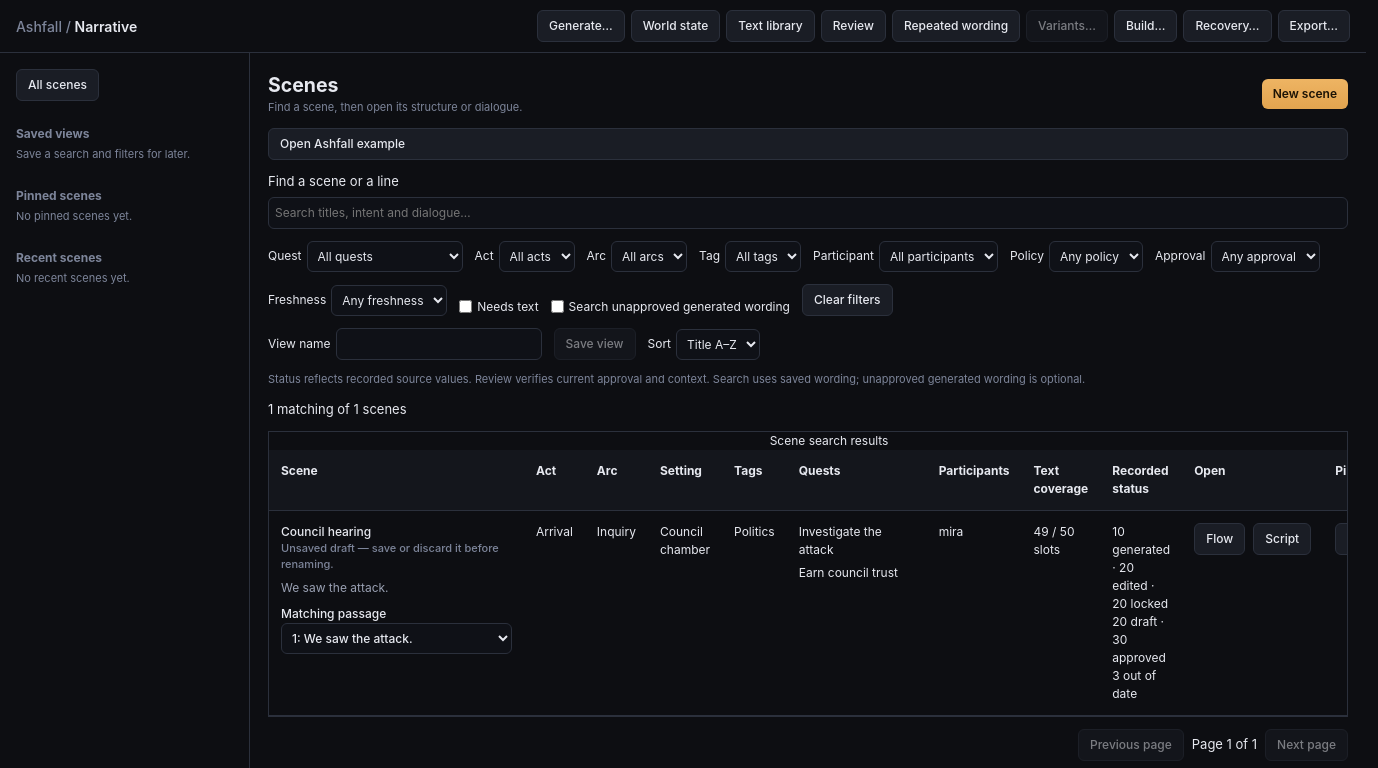
it: Narrative discovery and editor handoff › checks the current shared draft in the footer instead of displaying saved-scene results
Click the button with aria-label "Open Council hearing in Flow": (1220, 539) [1194, 523, 1245, 555]
(page scrolled)
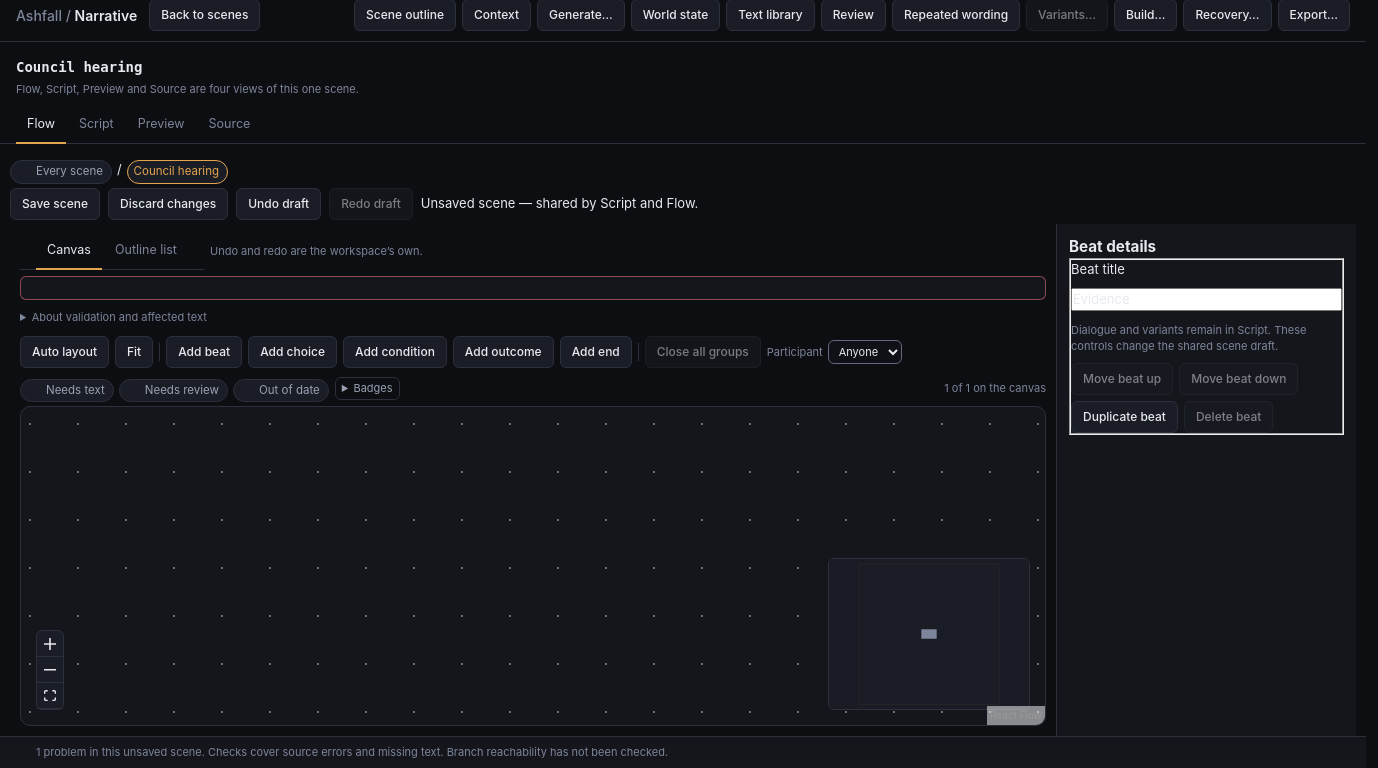
Expected: the footer named "Narrative diagnostics" shows "1 problem in this unsaved scene", [36, 745, 208, 759]
